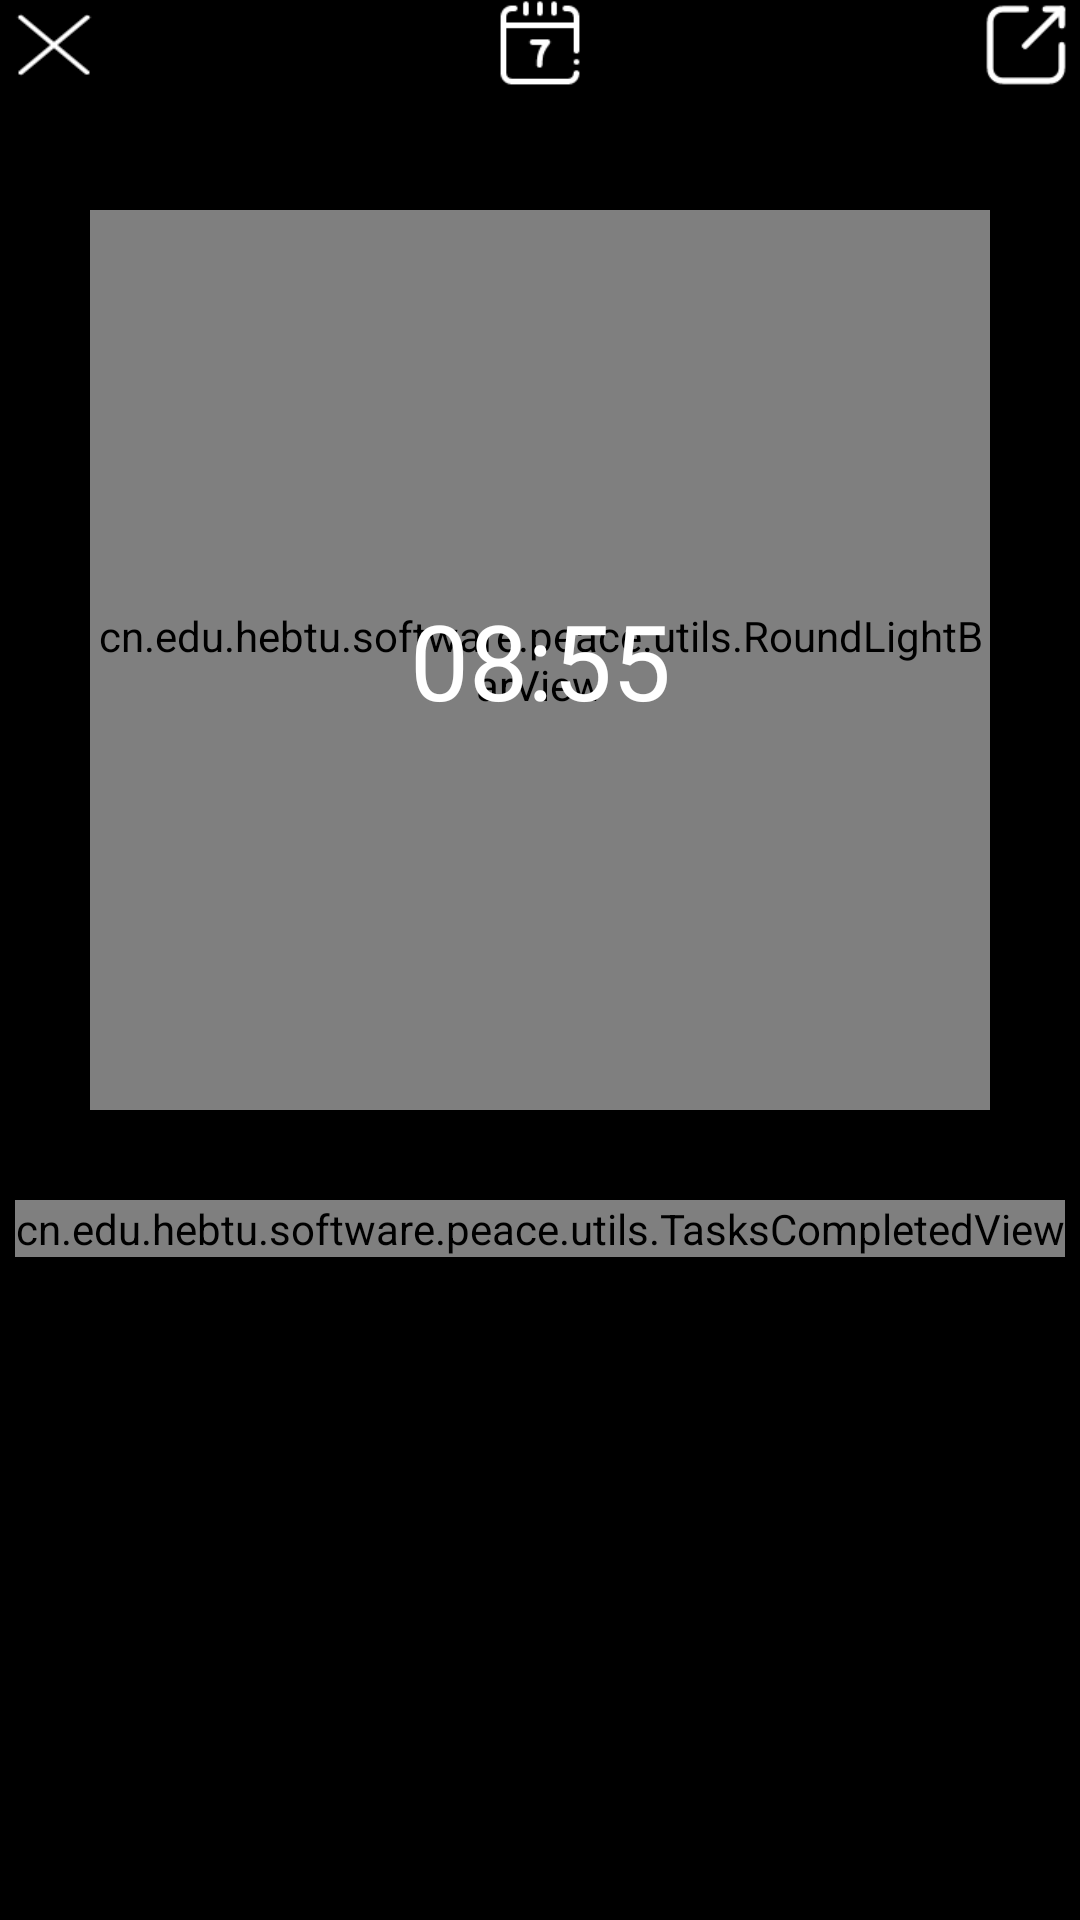

Where to tap for icons on this 1080x1920 app screen, as [x,y]:
calendar: [540,43]
close: [54,45]
share: [1026,45]
